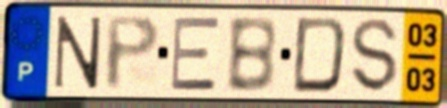B: (224, 14, 279, 96)
D: (289, 14, 351, 96)
E: (169, 15, 221, 94)
N: (51, 14, 105, 91)
P: (104, 13, 163, 93)
S: (349, 16, 401, 96)
